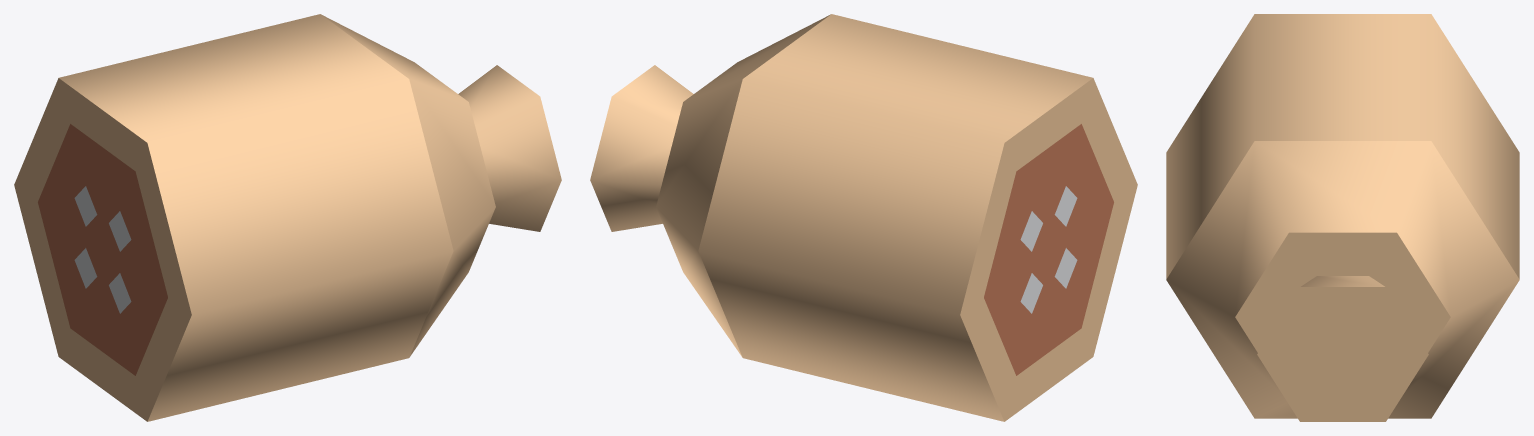
Rendered from sausageHalf.GLB.
The picture shows the model from 3 angles, left to right: view 1: azimuth 30°, elevation 25°; view 2: azimuth 150°, elevation 25°; view 3: azimuth 270°, elevation 25°; orthographic projection.
Parts seen in each view (by area): view 1: sausageHalf; view 2: sausageHalf; view 3: sausageHalf.
Part boxes in pixels (bbox=[...]): sausageHalf: bbox=[14, 14, 561, 421]; sausageHalf: bbox=[590, 14, 1137, 421]; sausageHalf: bbox=[1166, 14, 1519, 421].
Bounding box in the file's own units: 0.1853 × 0.1189 × 0.1373.
